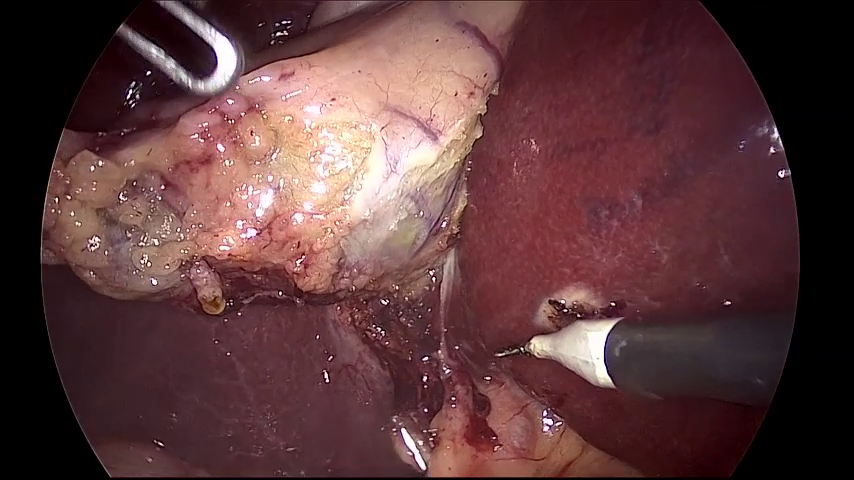grasper: (117, 1, 236, 91)
lhook: (498, 309, 795, 409)
